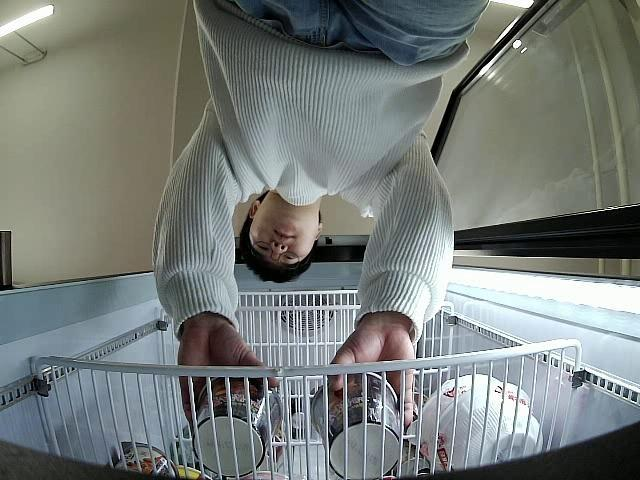08_buldak_S: (308, 372, 401, 480), (191, 368, 280, 475)
